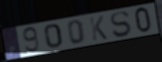0: (134, 6, 154, 35), (43, 23, 65, 49), (66, 19, 87, 46)
9: (23, 25, 42, 56)
K: (88, 15, 109, 42)
S: (109, 10, 132, 39)
